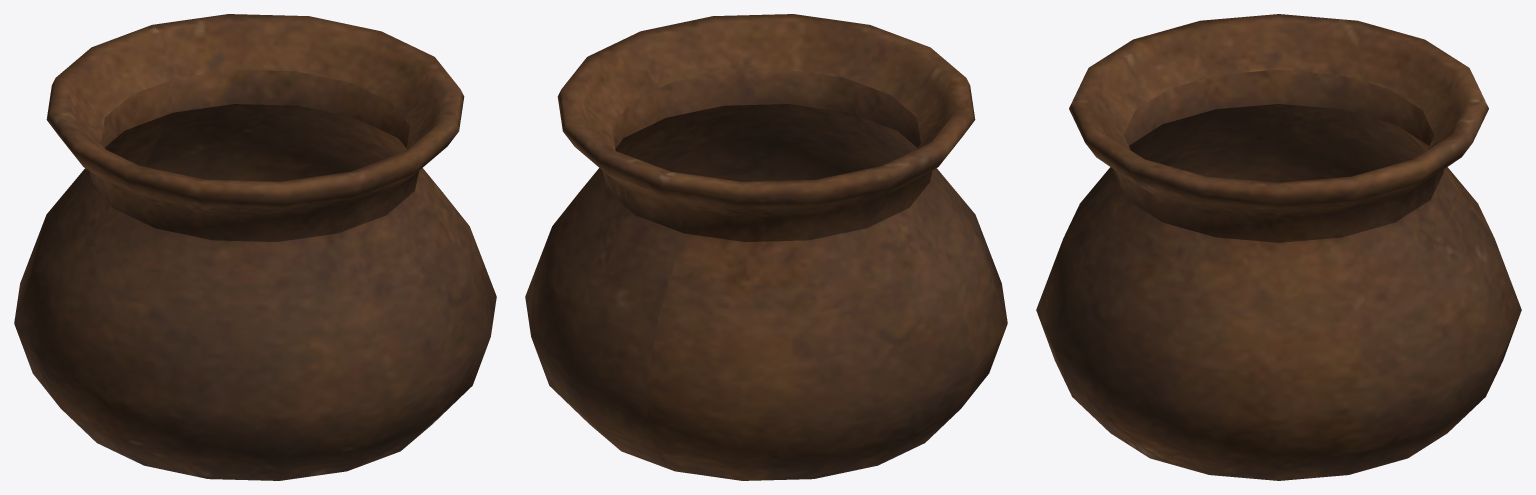
Rendered from pottery01.FBX.
3 views of the same model, side by side, from view 1: azimuth 30°, elevation 25°; view 2: azimuth 150°, elevation 25°; view 3: azimuth 270°, elevation 25° (orthographic).
Parts seen in each view (by area): view 1: SM_Pottery01; view 2: SM_Pottery01; view 3: SM_Pottery01.
Part boxes in pixels (x1,y1,x2,y2): SM_Pottery01: (14,14,496,480); SM_Pottery01: (525,14,1007,480); SM_Pottery01: (1036,14,1521,480).
Size of the model in its own units: 38.07 by 28.37 by 38.07.
1 material, 1 textured.
